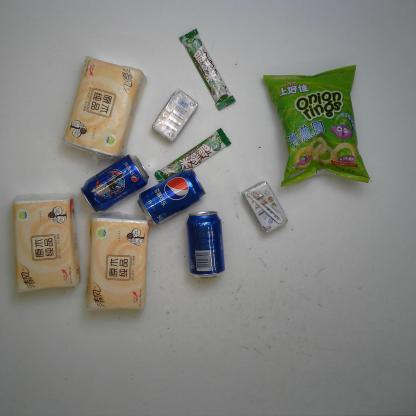Chocolate: (178, 29, 239, 112), (153, 127, 233, 184)
Drink: (78, 154, 151, 214), (136, 167, 209, 225), (185, 208, 227, 281)
Milk: (150, 85, 200, 143), (242, 180, 290, 236)
Puffed Food: (262, 62, 373, 189)
Tissue: (60, 53, 149, 160), (10, 195, 81, 296), (85, 212, 149, 314)
